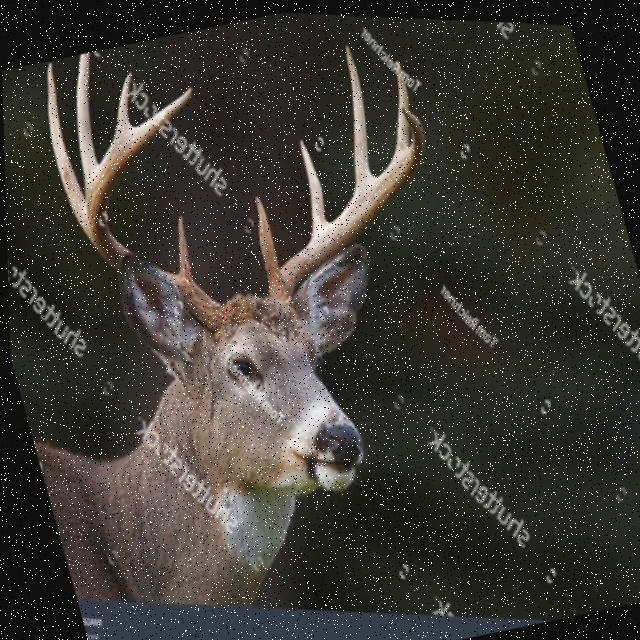E1: (112, 69, 133, 141)
L-G1: (176, 213, 190, 275)
L-G2: (47, 60, 89, 238)
L-G3: (76, 51, 97, 193)
R-F: (266, 102, 424, 302)
R-G1: (254, 192, 281, 280)
R-G2: (299, 135, 325, 229)
R-G3: (345, 40, 371, 184)
